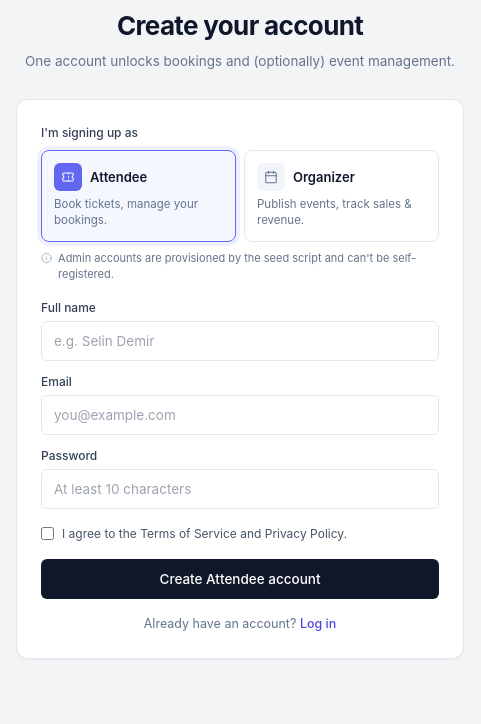
Test: RegisterPage › refuses to submit when the password is too short
Type "A" into the field labelled "Full name". click: [240, 341]
box: x1=41 y1=321 x2=439 y2=361
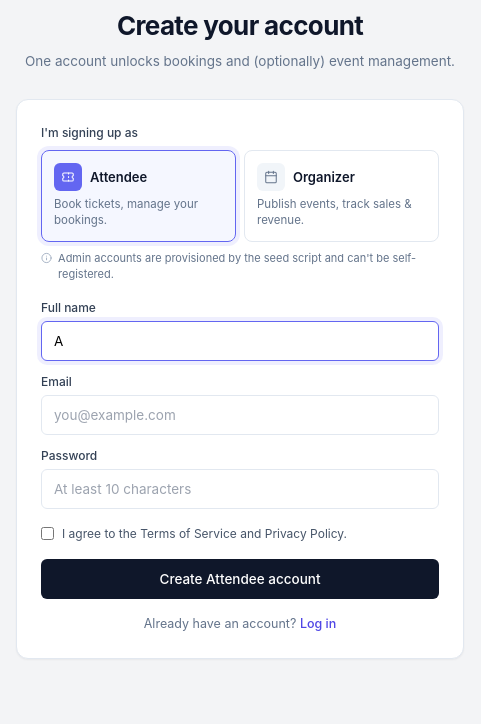
Type "a@b.co" into the field labelled "Email". click: [240, 415]
box: x1=41 y1=395 x2=439 y2=435
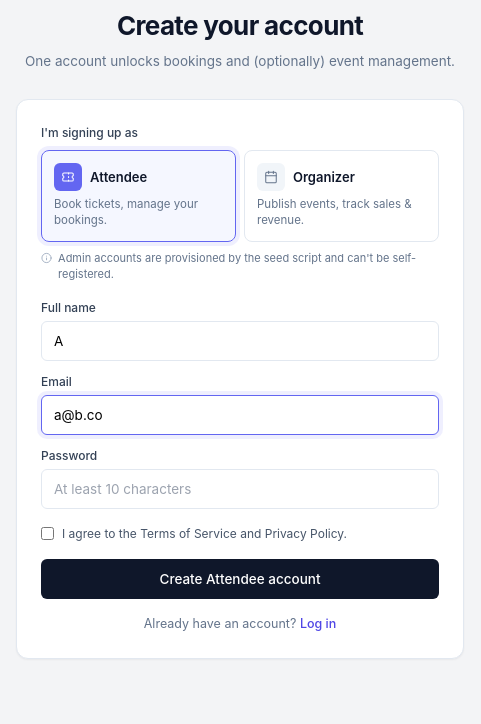
Type "short" into the password field labelled "Password". click: [240, 489]
box: x1=41 y1=469 x2=439 y2=509
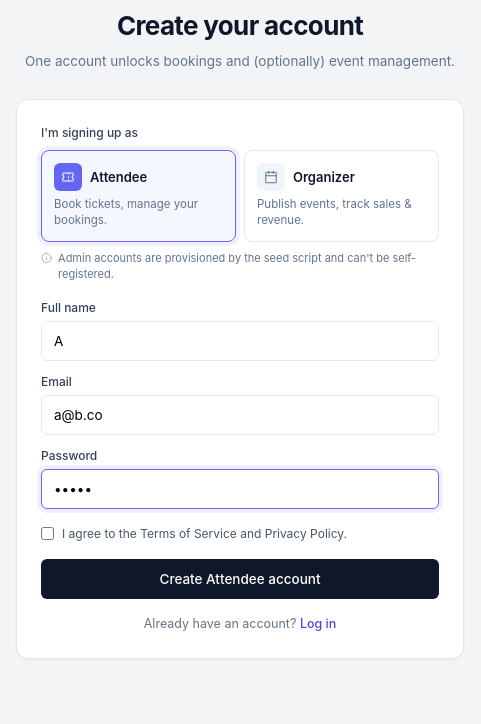
Click the checkbox labelled "I agree to the Terms of Service and Privacy Policy.". click: [48, 533]
box: x1=41 y1=527 x2=54 y2=540
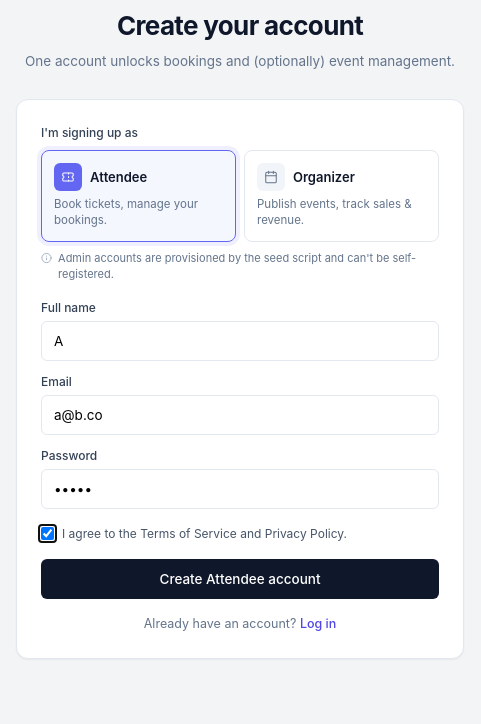
Click the button "Create Attendee account". click: [240, 579]
box: x1=41 y1=559 x2=439 y2=599
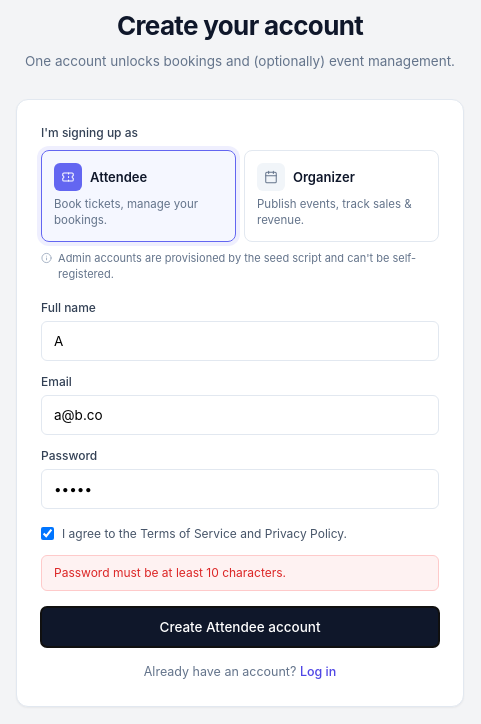
Expected: the message shows "at least 10 characters", x1=54 y1=565 x2=286 y2=580
